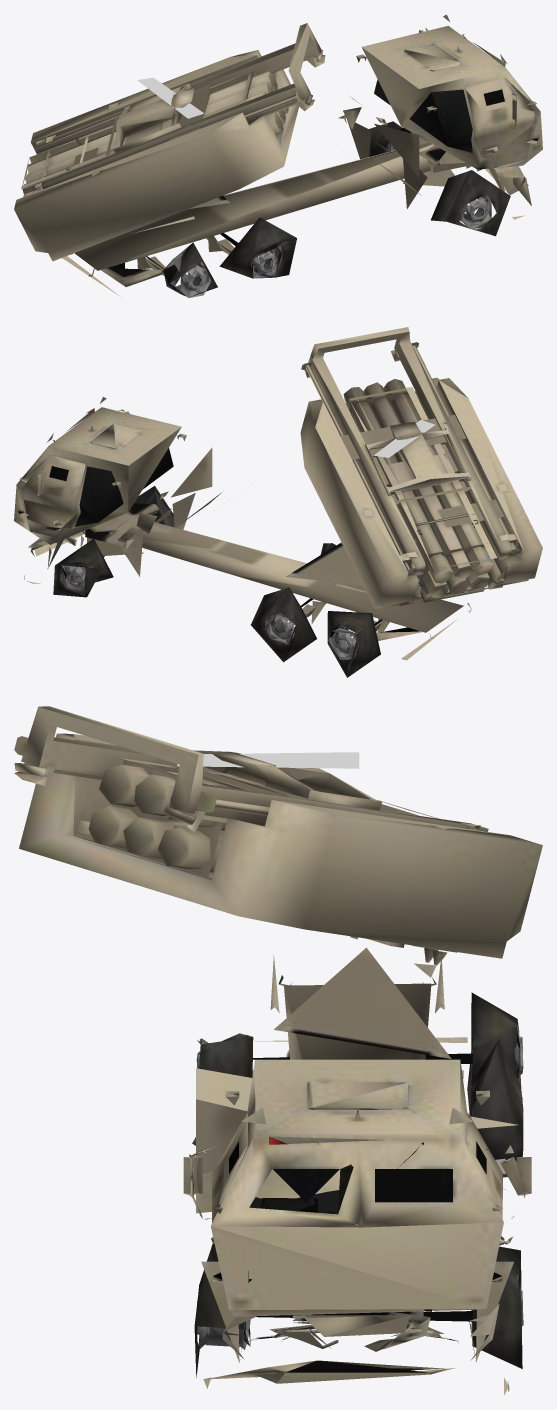
The model's file is himars_lo.glb.
3 views of the same model, one above another, from view 1: azimuth 30°, elevation 25°; view 2: azimuth 150°, elevation 25°; view 3: azimuth 270°, elevation 25° (orthographic). The views are drawn at different scales.
Visible parts, largest first — view 1: g_himars_hull, g_himars_turret; view 2: g_himars_turret, g_himars_hull; view 3: g_himars_hull, g_himars_turret.
Boxes of the visible parts, <box> form: g_himars_hull: <box>62,14,542,297</box>; g_himars_turret: <box>14,23,325,261</box>; g_himars_turret: <box>300,327,542,609</box>; g_himars_hull: <box>14,397,471,677</box>; g_himars_hull: <box>183,947,531,1395</box>; g_himars_turret: <box>14,706,542,965</box>.
Bounding box in the file's own units: 6.91 × 3.39 × 3.45.
4 materials, 3 textured.
